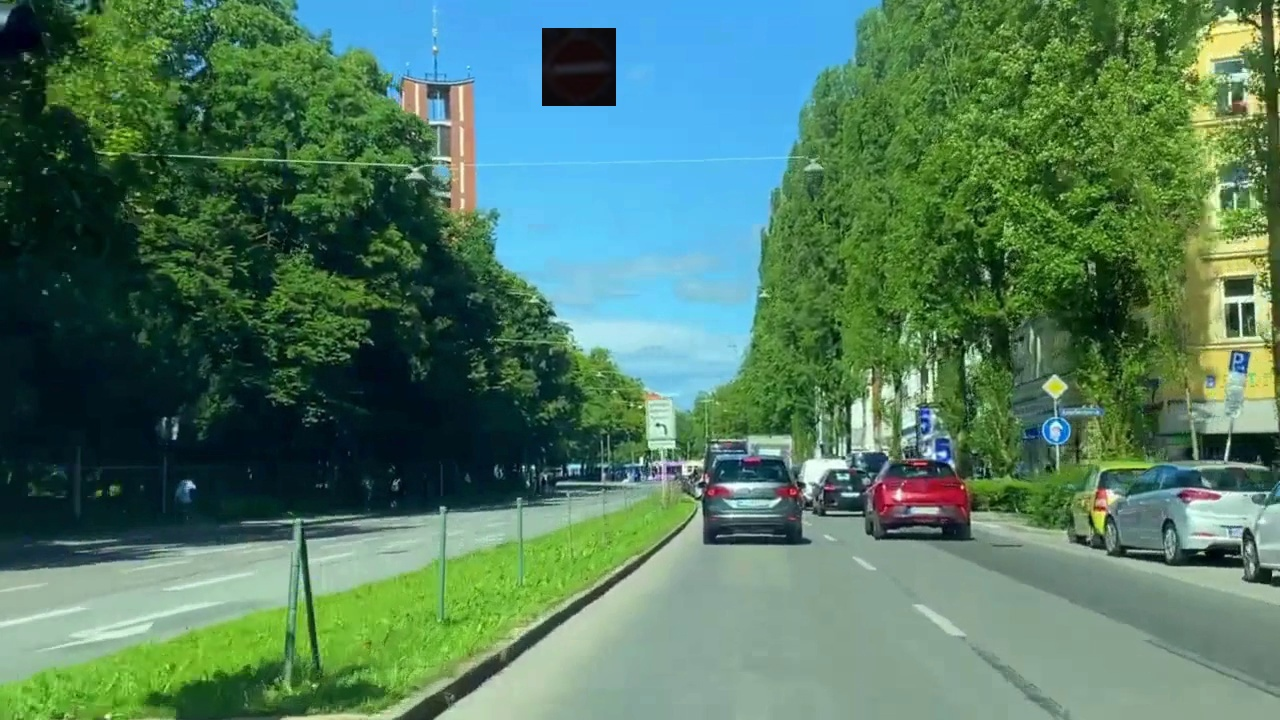No entry: (542, 28, 616, 106)
